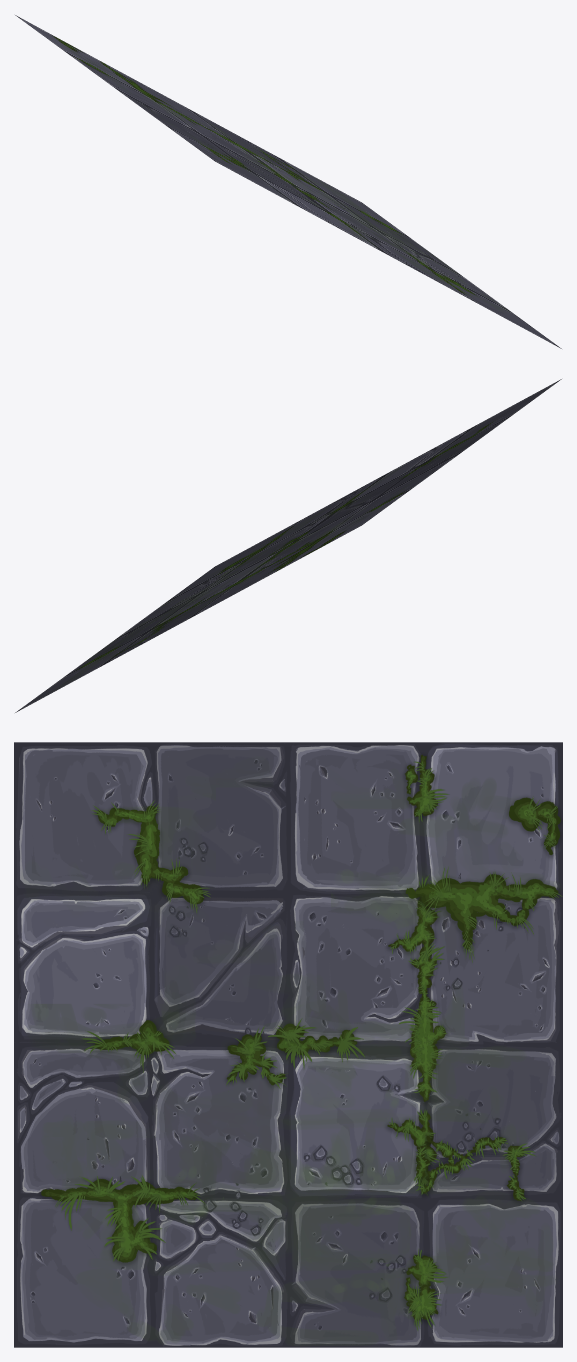
File: MOD_Stairs_01_BotCap_2.fbx
3 renders of one model, top to bottom at view 1: azimuth 30°, elevation 25°; view 2: azimuth 150°, elevation 25°; view 3: azimuth 270°, elevation 25°, orthographic. The views are drawn at different scales.
Parts seen in each view (by area): view 1: MOD_Stairs_01_BotCap_2; view 2: MOD_Stairs_01_BotCap_2; view 3: MOD_Stairs_01_BotCap_2.
Boxes of the visible parts, left/top/right/bottom form: MOD_Stairs_01_BotCap_2: left=15, top=15, right=561, bottom=348; MOD_Stairs_01_BotCap_2: left=15, top=379, right=561, bottom=712; MOD_Stairs_01_BotCap_2: left=14, top=742, right=562, bottom=1347.
Bounding box in the file's own units: 400 × 300 × 400.
